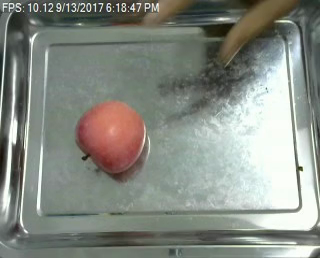Apple: (74, 95, 146, 178)
